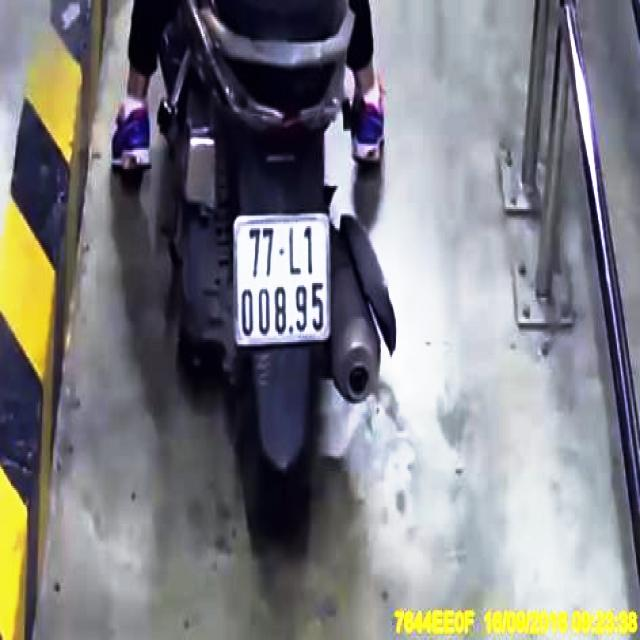license_plate: (238, 216, 332, 349)
